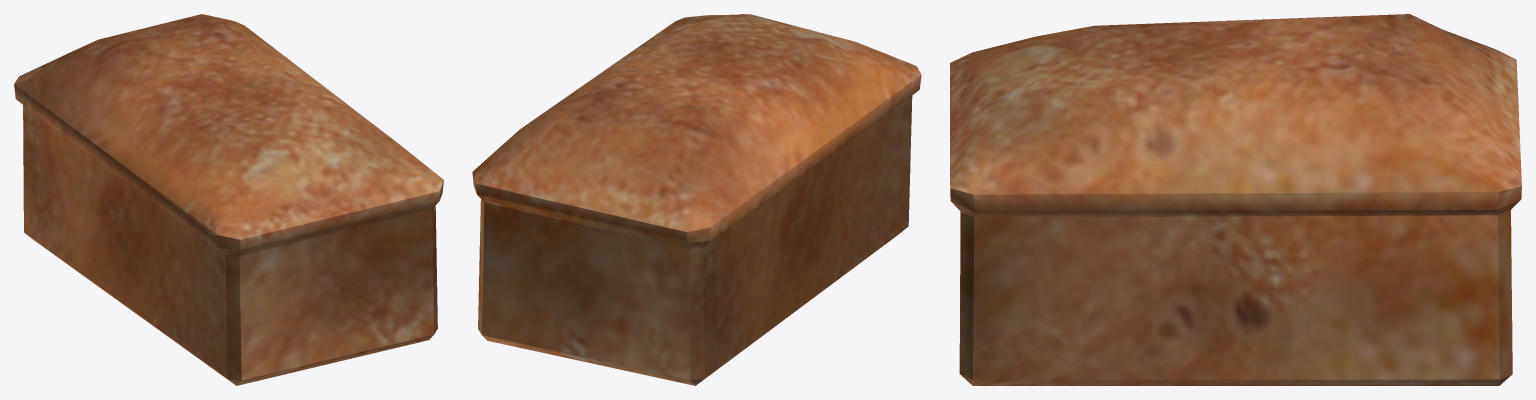
Rendered from BreadVariety_4.fbx.
3 renders of one model, left to right at view 1: azimuth 30°, elevation 25°; view 2: azimuth 150°, elevation 25°; view 3: azimuth 270°, elevation 25°, orthographic. The views are drawn at different scales.
Visible parts, largest first — view 1: BreadVariety_4; view 2: BreadVariety_4; view 3: BreadVariety_4.
Part boxes in pixels (x1,y1,x2,y2): BreadVariety_4: (14, 14, 443, 385); BreadVariety_4: (472, 14, 921, 385); BreadVariety_4: (950, 14, 1521, 385).
Size of the model in its own units: 0.2038 by 0.1861 by 0.3459.
